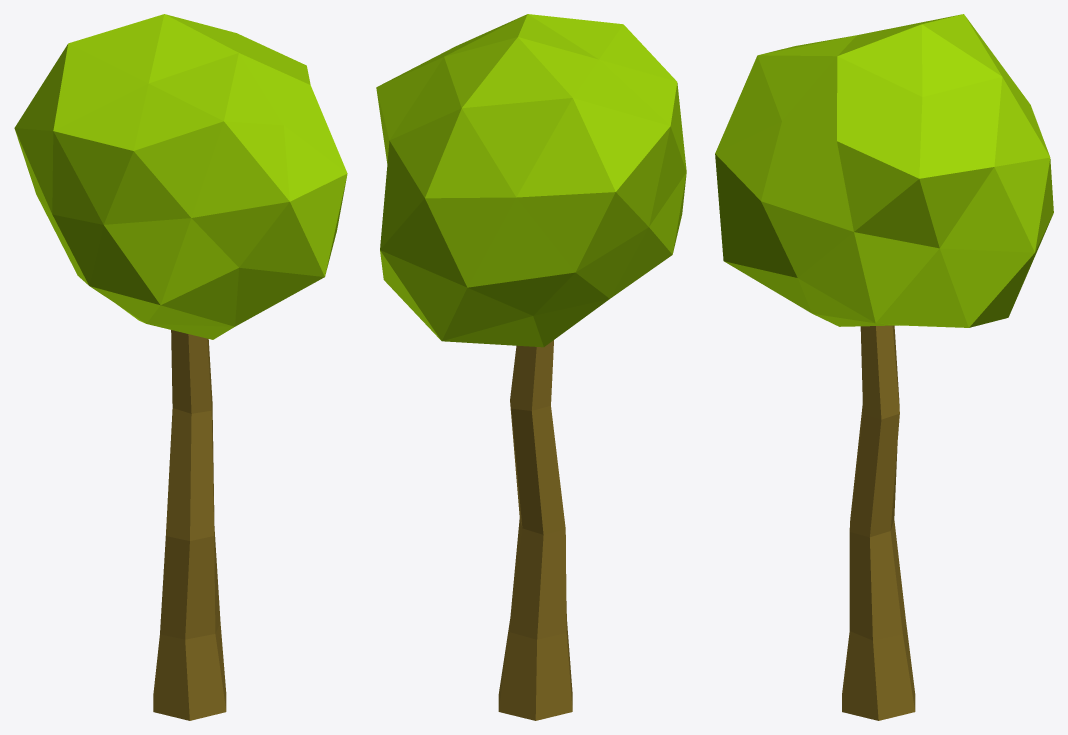
Rendered from tree1.fbx.
3 views of the same model, side by side, from view 1: azimuth 30°, elevation 25°; view 2: azimuth 150°, elevation 25°; view 3: azimuth 270°, elevation 25° (orthographic).
Parts seen in each view (by area): view 1: pPlatonic2; view 2: pPlatonic2; view 3: pPlatonic2.
Boxes of the visible parts, x1,y1,x2,y2 form: pPlatonic2: (14,14,347,720); pPlatonic2: (376,14,686,720); pPlatonic2: (715,14,1053,720).
Bounding box in the file's own units: 7.46 × 17.66 × 8.01.
